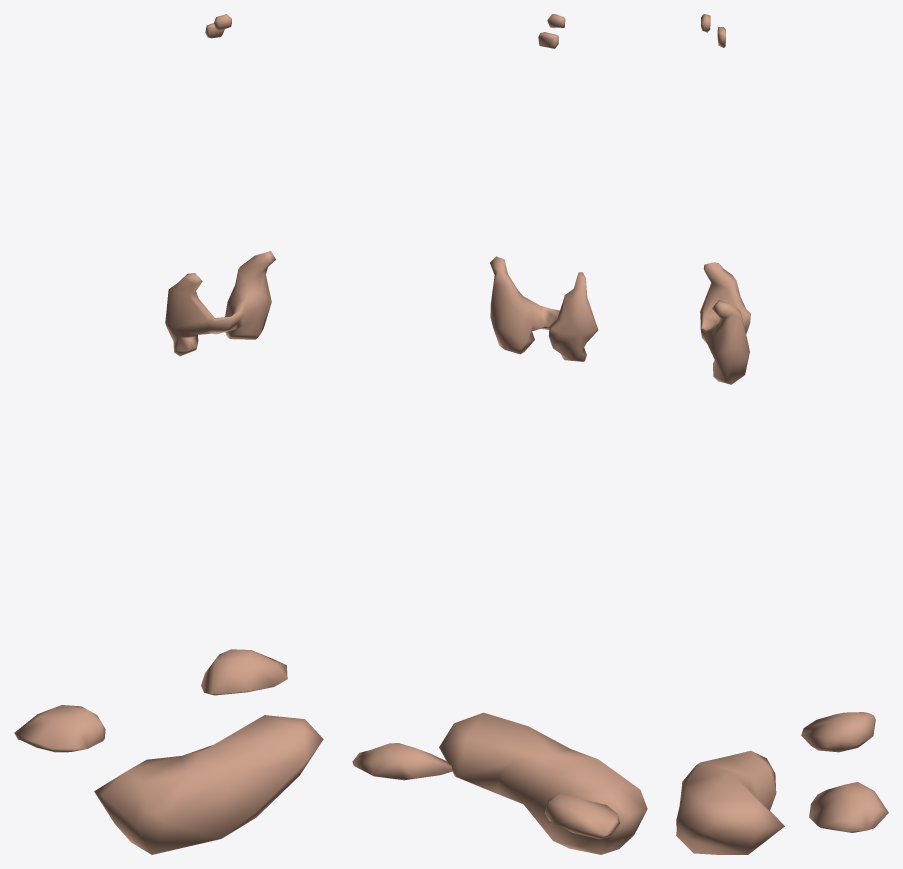
File: icrp_adult_male.endocrine.LOD3.glb
3 views of the same model, side by side, from view 1: azimuth 30°, elevation 25°; view 2: azimuth 150°, elevation 25°; view 3: azimuth 270°, elevation 25° (orthographic). The views are drawn at different scales.
Visible parts, largest first — view 1: ICRP.ADULT.MALE.ENDOCRINE.PANCREAS, ICRP.ADULT.MALE.ENDOCRINE.THYROID, ICRP.ADULT.MALE.ENDOCRINE.ADRENAL.R, ICRP.ADULT.MALE.ENDOCRINE.ADRENAL.L; view 2: ICRP.ADULT.MALE.ENDOCRINE.PANCREAS, ICRP.ADULT.MALE.ENDOCRINE.THYROID, ICRP.ADULT.MALE.ENDOCRINE.ADRENAL.L, ICRP.ADULT.MALE.ENDOCRINE.ADRENAL.R; view 3: ICRP.ADULT.MALE.ENDOCRINE.PANCREAS, ICRP.ADULT.MALE.ENDOCRINE.THYROID, ICRP.ADULT.MALE.ENDOCRINE.ADRENAL.L, ICRP.ADULT.MALE.ENDOCRINE.ADRENAL.R.
Part boxes in pixels (x1,y1,x2,y2): ICRP.ADULT.MALE.ENDOCRINE.PANCREAS: (94, 715, 323, 854); ICRP.ADULT.MALE.ENDOCRINE.THYROID: (165, 251, 275, 356); ICRP.ADULT.MALE.ENDOCRINE.ADRENAL.R: (14, 705, 105, 752); ICRP.ADULT.MALE.ENDOCRINE.ADRENAL.L: (201, 649, 287, 695); ICRP.ADULT.MALE.ENDOCRINE.PANCREAS: (439, 712, 647, 854); ICRP.ADULT.MALE.ENDOCRINE.THYROID: (490, 256, 598, 361); ICRP.ADULT.MALE.ENDOCRINE.ADRENAL.L: (352, 743, 451, 780); ICRP.ADULT.MALE.ENDOCRINE.ADRENAL.R: (544, 794, 619, 839); ICRP.ADULT.MALE.ENDOCRINE.PANCREAS: (676, 750, 784, 854); ICRP.ADULT.MALE.ENDOCRINE.THYROID: (700, 262, 750, 384); ICRP.ADULT.MALE.ENDOCRINE.ADRENAL.L: (809, 782, 888, 832); ICRP.ADULT.MALE.ENDOCRINE.ADRENAL.R: (801, 712, 875, 752).
Bounding box in the file's own units: 0.163 × 0.4911 × 0.112.
